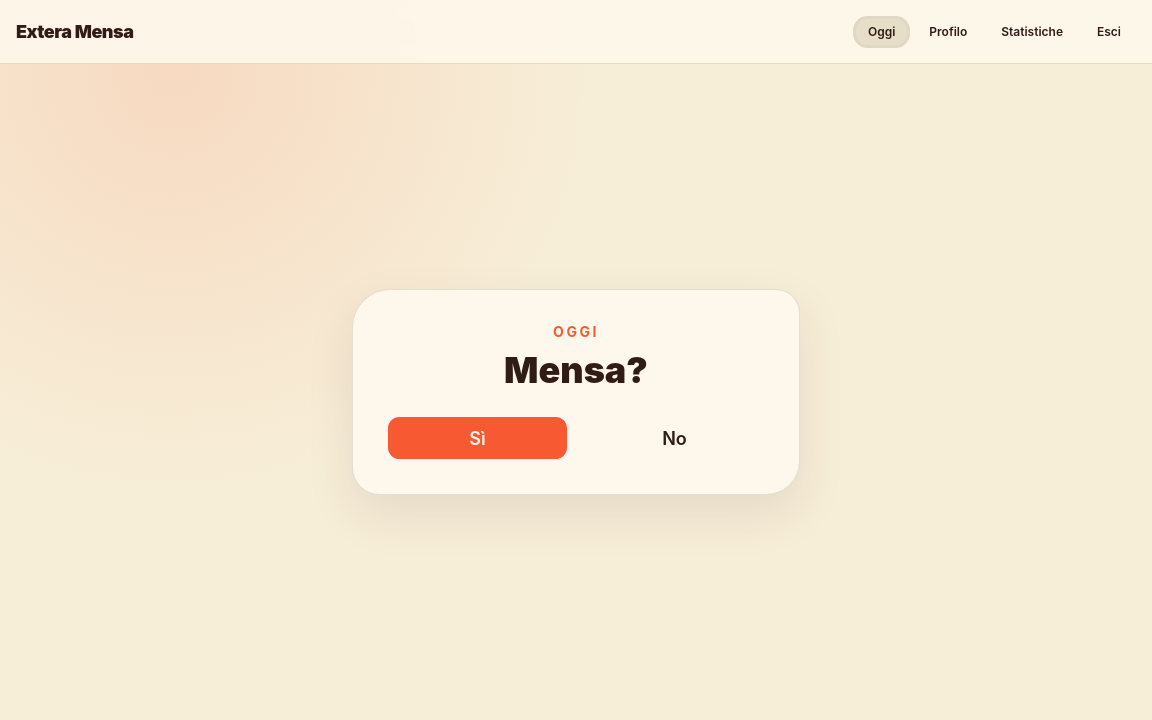
application shell › navigates to statistics
Click the link to "/statistics".
click(1032, 32)  # box [986, 16, 1078, 48]
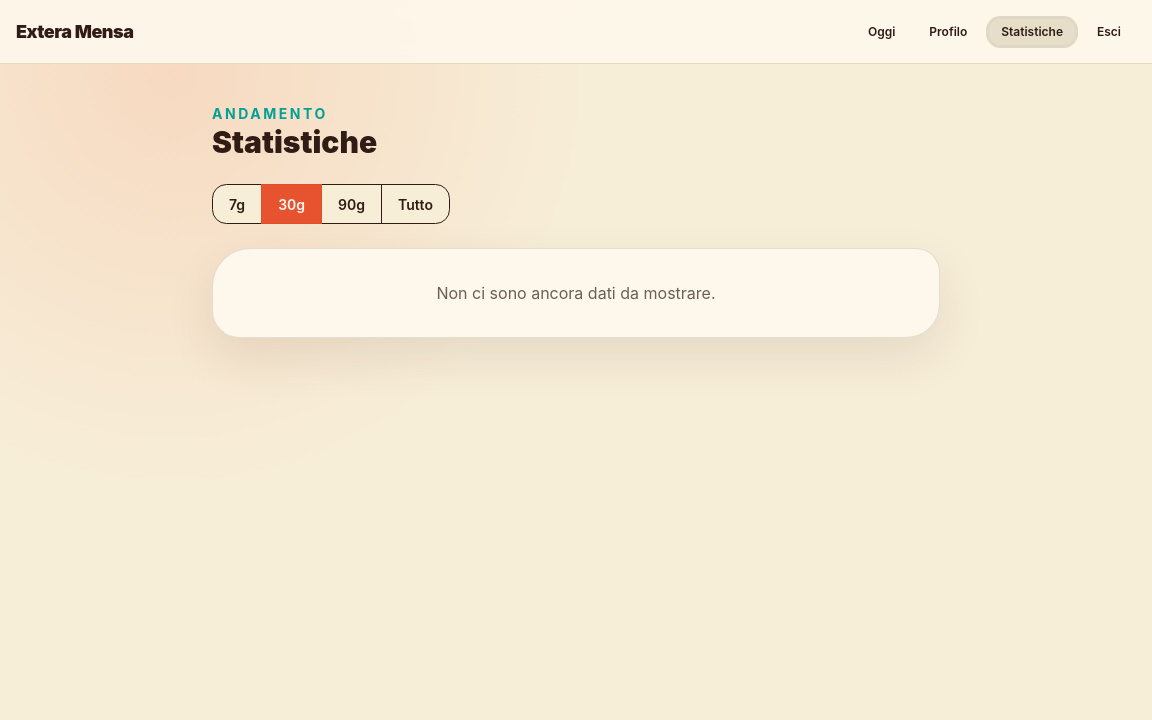
Result: the element named "Intervallo temporale" is shown at [212, 184, 450, 224]
Result: the text "Andamento" is shown at [212, 105, 328, 122]
